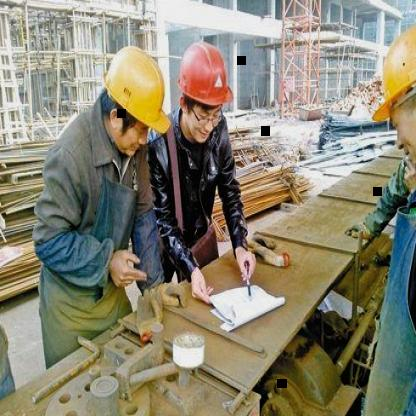helmet: (100, 48, 174, 134), (367, 17, 416, 131), (176, 38, 237, 112)
